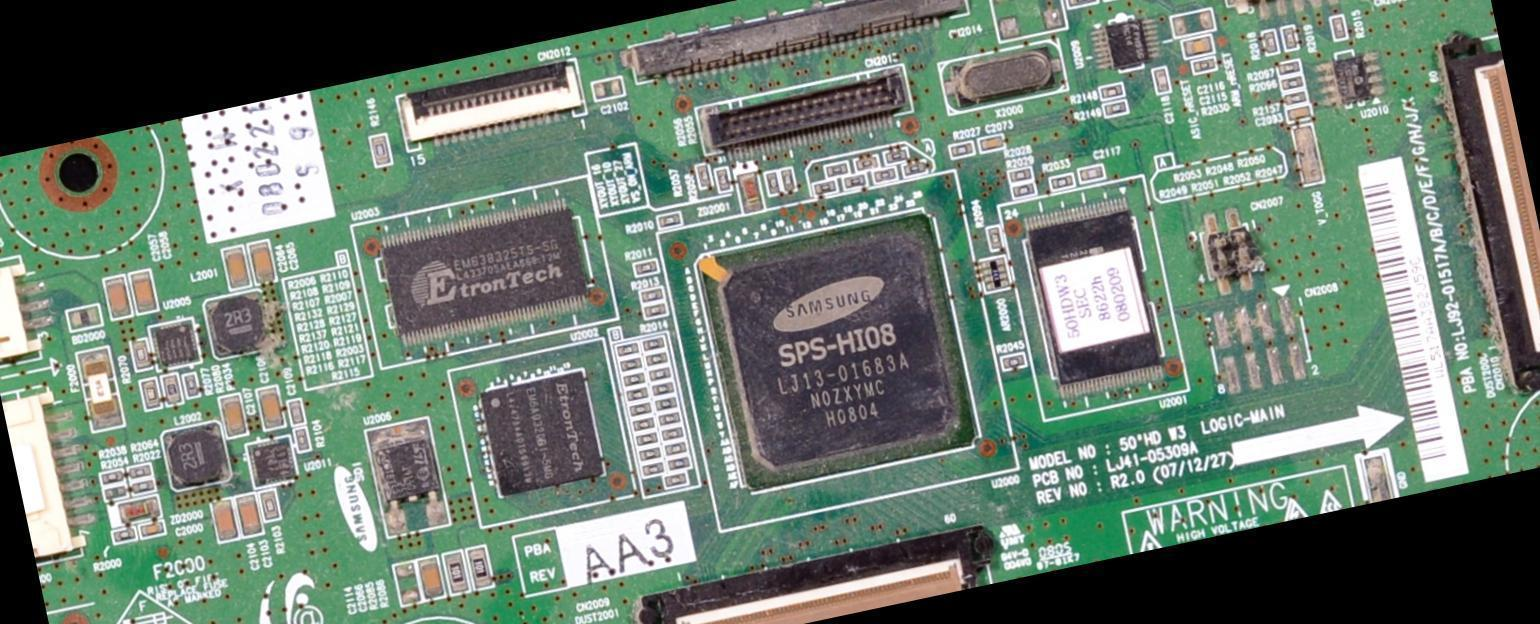Capacitor: (211, 500, 238, 541), (105, 276, 131, 318), (131, 269, 156, 312), (259, 388, 283, 428), (223, 394, 245, 435), (421, 560, 443, 598), (249, 244, 271, 281), (224, 248, 245, 285), (1182, 36, 1213, 56), (594, 77, 623, 98), (241, 497, 258, 532), (979, 135, 1005, 153), (1079, 168, 1103, 186), (1152, 71, 1169, 96), (290, 399, 303, 425), (140, 523, 163, 536), (1293, 109, 1308, 119)
IC: (697, 209, 981, 493), (382, 196, 591, 342), (1024, 195, 1165, 396), (480, 367, 605, 497), (372, 423, 448, 522), (147, 314, 203, 369), (250, 438, 300, 488), (1105, 17, 1152, 65), (1335, 55, 1376, 104)
Resistor: (468, 548, 489, 587), (445, 552, 465, 590), (366, 134, 387, 165), (259, 489, 279, 521), (164, 375, 184, 405), (141, 378, 160, 408), (1048, 171, 1073, 192), (1279, 23, 1296, 49), (1259, 28, 1276, 54), (134, 339, 149, 368), (635, 258, 659, 276), (103, 484, 130, 500), (661, 211, 685, 228), (132, 475, 155, 492), (185, 373, 200, 397), (646, 302, 670, 317), (1329, 17, 1345, 39), (715, 170, 730, 193), (877, 168, 900, 183), (112, 528, 136, 542), (990, 227, 1005, 249), (1002, 354, 1024, 369), (641, 285, 661, 301), (951, 142, 975, 155), (1195, 60, 1216, 74), (295, 430, 309, 451), (767, 171, 779, 195), (1099, 84, 1121, 97), (907, 159, 929, 172), (622, 356, 642, 370), (1007, 169, 1028, 182), (699, 167, 712, 187), (1286, 78, 1306, 91), (643, 336, 663, 349), (103, 471, 123, 484), (783, 168, 794, 191), (888, 150, 906, 163), (1109, 102, 1128, 114), (1066, 0, 1098, 7), (1285, 95, 1307, 105), (626, 373, 644, 385), (131, 467, 152, 477), (642, 462, 661, 473), (1280, 63, 1297, 75), (817, 181, 834, 193), (657, 379, 674, 391), (661, 411, 677, 423), (665, 428, 682, 439), (860, 154, 875, 166), (631, 389, 647, 400), (827, 165, 844, 175), (620, 343, 637, 353), (660, 397, 675, 408), (668, 444, 683, 455), (638, 434, 654, 444), (670, 472, 683, 484), (672, 458, 685, 469), (635, 404, 652, 412), (845, 179, 861, 187), (654, 370, 667, 379), (645, 446, 658, 455), (1014, 187, 1030, 194), (649, 356, 664, 363), (637, 418, 650, 426)
